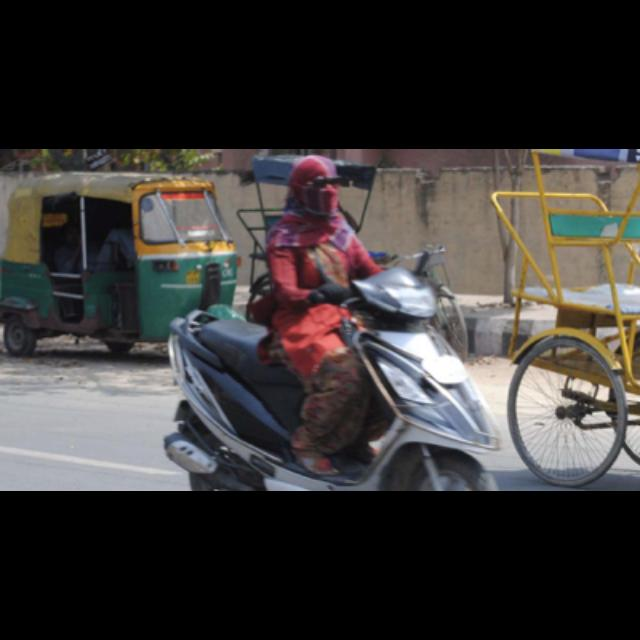Without Helmet: (288, 150, 342, 216)
